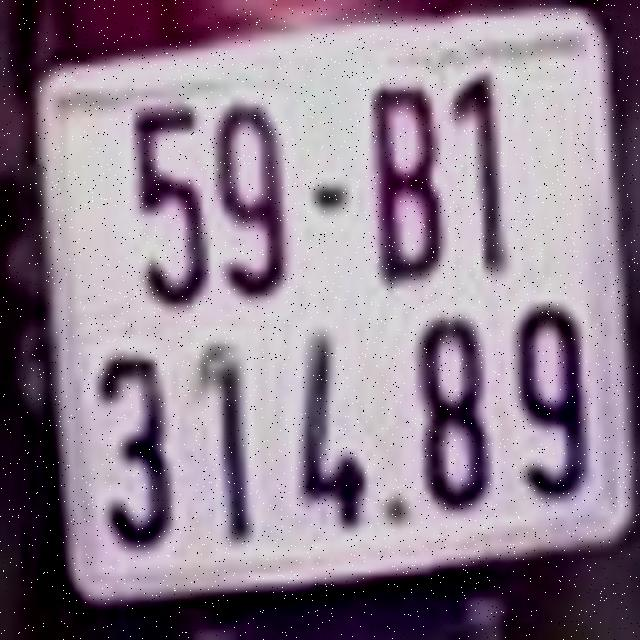1: (449, 64, 523, 278), (191, 334, 263, 545)
3: (91, 347, 178, 552)
4: (291, 322, 374, 534)
5: (127, 98, 212, 309)
8: (413, 301, 494, 515)
9: (511, 290, 594, 502), (213, 94, 291, 304)
B: (366, 73, 448, 288)
